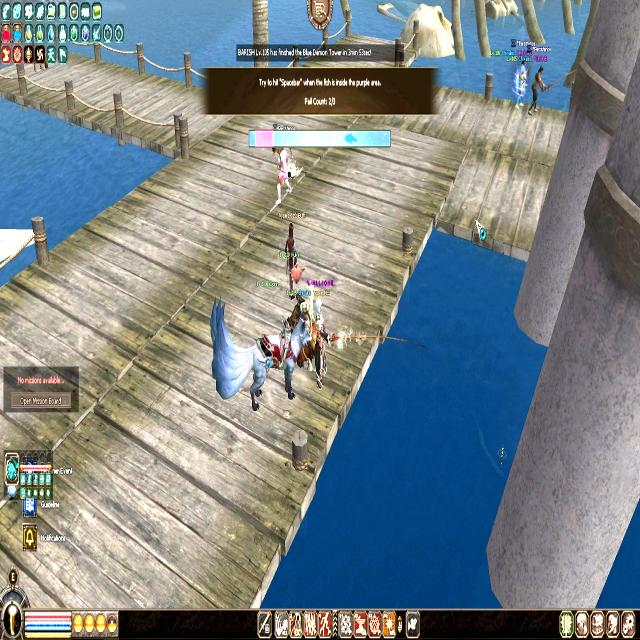box: (255, 130, 273, 148)
fishes: (344, 131, 357, 146)
